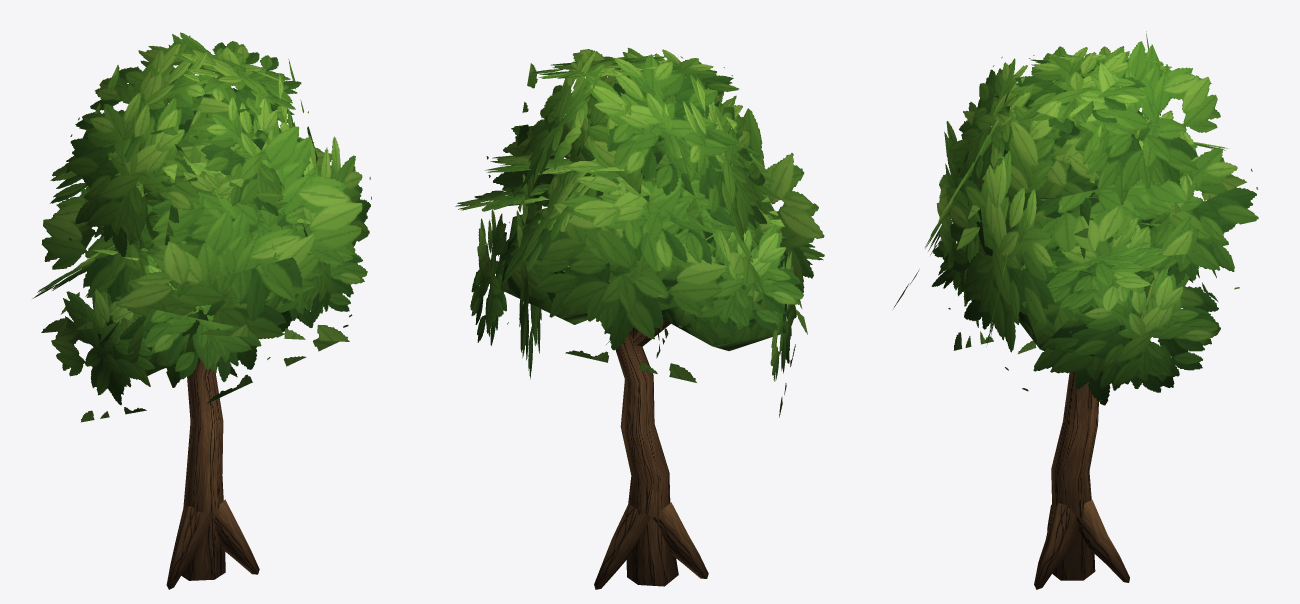
File: tree_green_b_lod1.glb
The picture shows the model from 3 angles, left to right: view 1: azimuth 30°, elevation 25°; view 2: azimuth 150°, elevation 25°; view 3: azimuth 270°, elevation 25°; orthographic projection. The views are drawn at different scales.
Parts seen in each view (by area): view 1: tree_green_b_lod1; view 2: tree_green_b_lod1; view 3: tree_green_b_lod1.
Part boxes in pixels (<box>): tree_green_b_lod1: <box>32,32,371,589</box>; tree_green_b_lod1: <box>455,47,824,589</box>; tree_green_b_lod1: <box>893,31,1258,589</box>.
Bounding box in the file's own units: 3.24 × 4.65 × 3.04.
2 materials, 2 textured.
